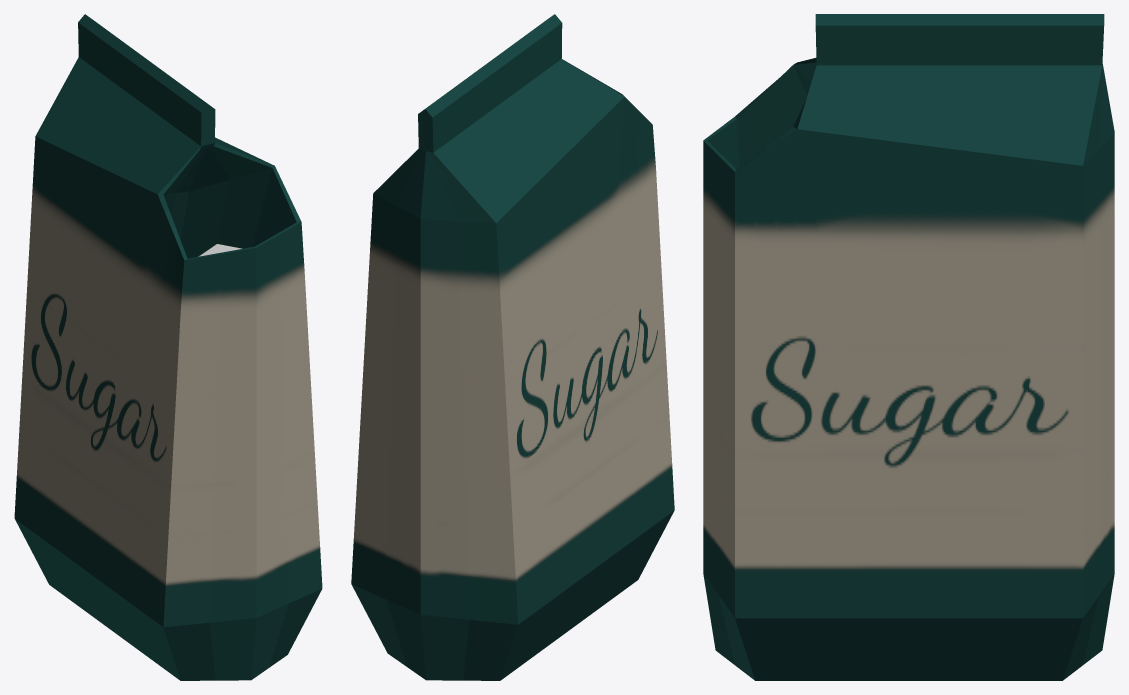
The model's file is Prop masak_Sugar.fbx.
The picture shows the model from 3 angles, left to right: view 1: azimuth 30°, elevation 25°; view 2: azimuth 150°, elevation 25°; view 3: azimuth 270°, elevation 25°; orthographic projection. The views are drawn at different scales.
Parts seen in each view (by area): view 1: Sugar; view 2: Sugar; view 3: Sugar.
Part boxes in pixels (x1,y1,x2,y2): Sugar: (14, 14, 322, 680); Sugar: (351, 14, 674, 680); Sugar: (703, 14, 1114, 680).
Size of the model in its own units: 9.5 by 31.08 by 18.22.
